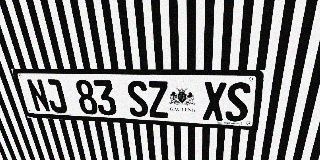3: (93, 80, 117, 116)
8: (74, 80, 99, 115)
J: (43, 79, 68, 113)
N: (25, 79, 52, 113)
S: (225, 82, 251, 122), (126, 80, 149, 117)
X: (203, 82, 227, 121)
Z: (147, 81, 169, 118)
